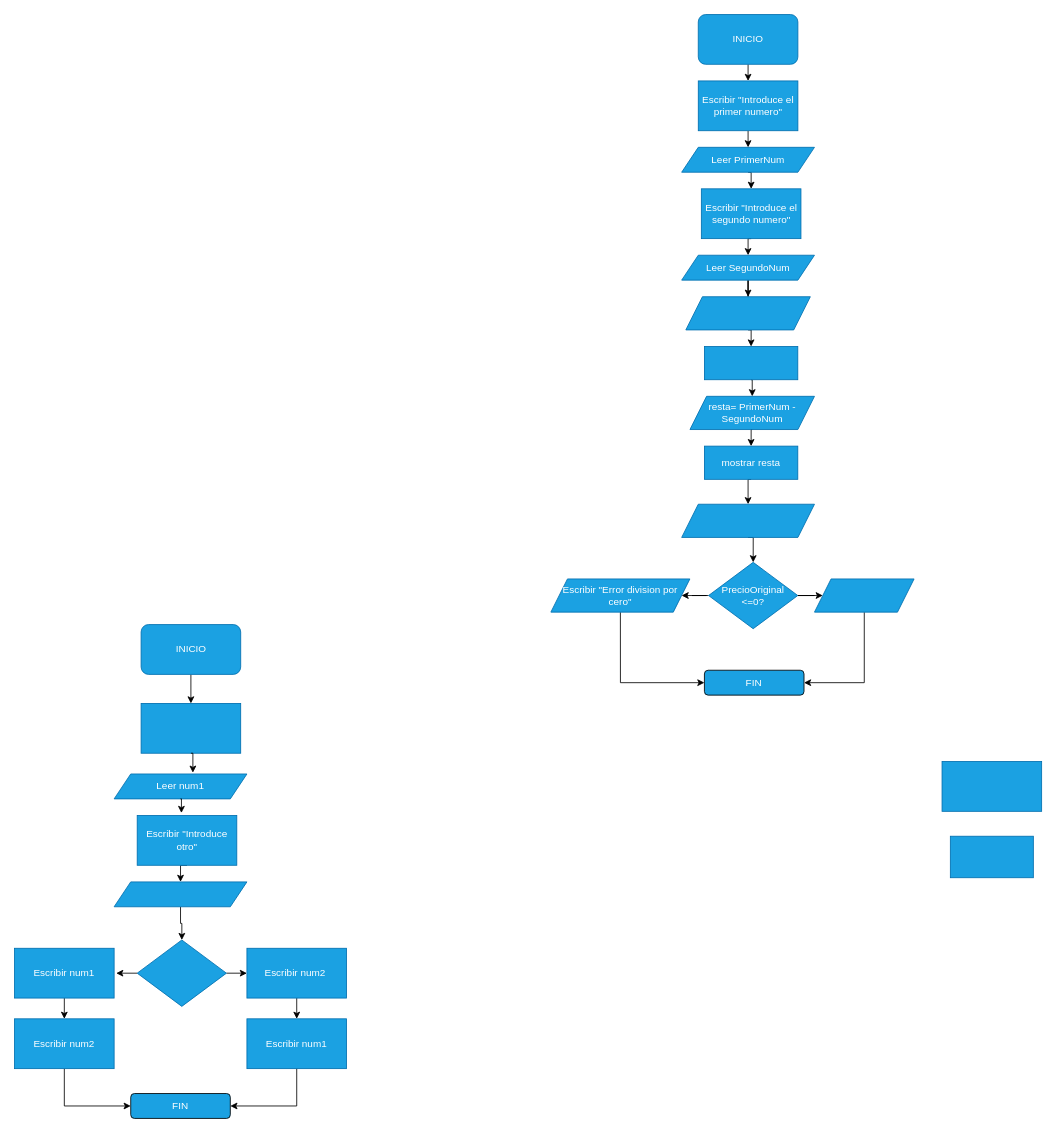
Some shapes in this 1057 by 1133 pixel diagram are drawn without their labels. Here are the shapes that lost their labels. From the top down, the centre of each, then its label:
(747,313): suma= PrimerNum + SegundoNum
(751,363): mostrar suma
(747,520): producto= PrimerNum * SegundoNum
(864,595): cociente= A/B
(190,728): Escribir "Introduce un numero"
(991,786): Calcular: descuento= PrecioOriginal - PrecioVenta
(991,856): Escribir porcentaje
(180,894): Leer num2
(181,972): num1 > num2
